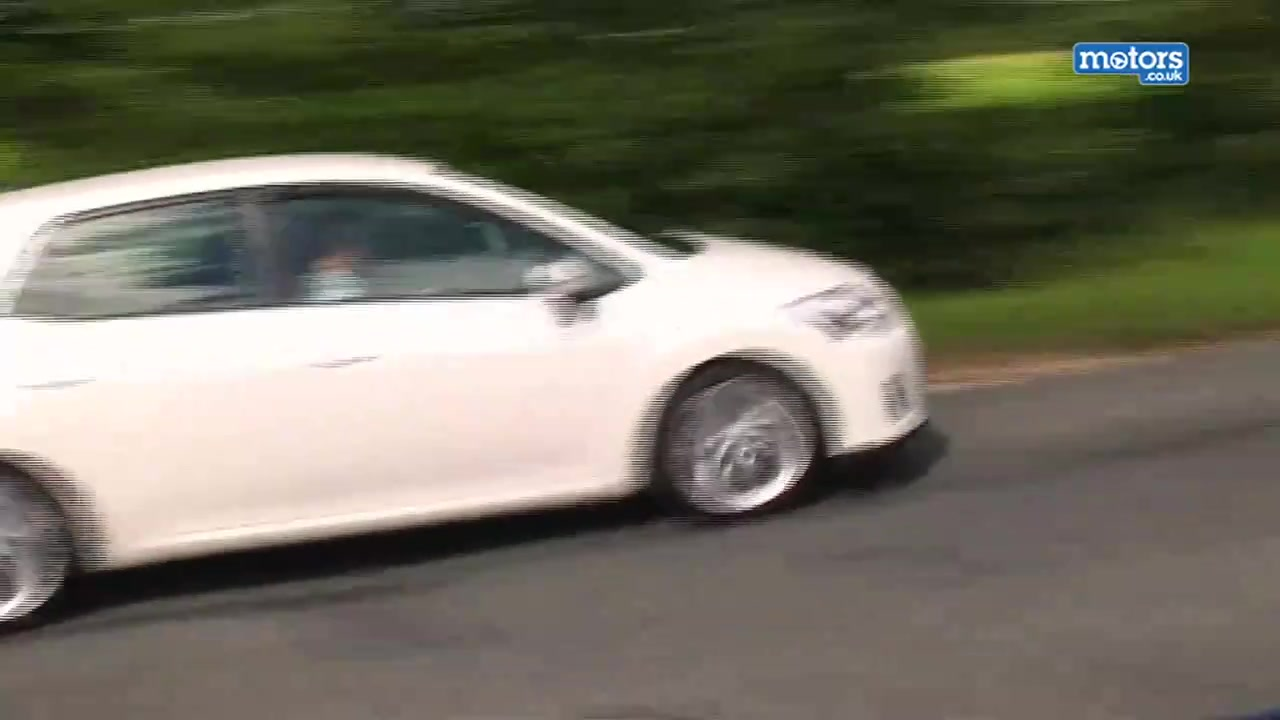car: (1, 151, 934, 650)
